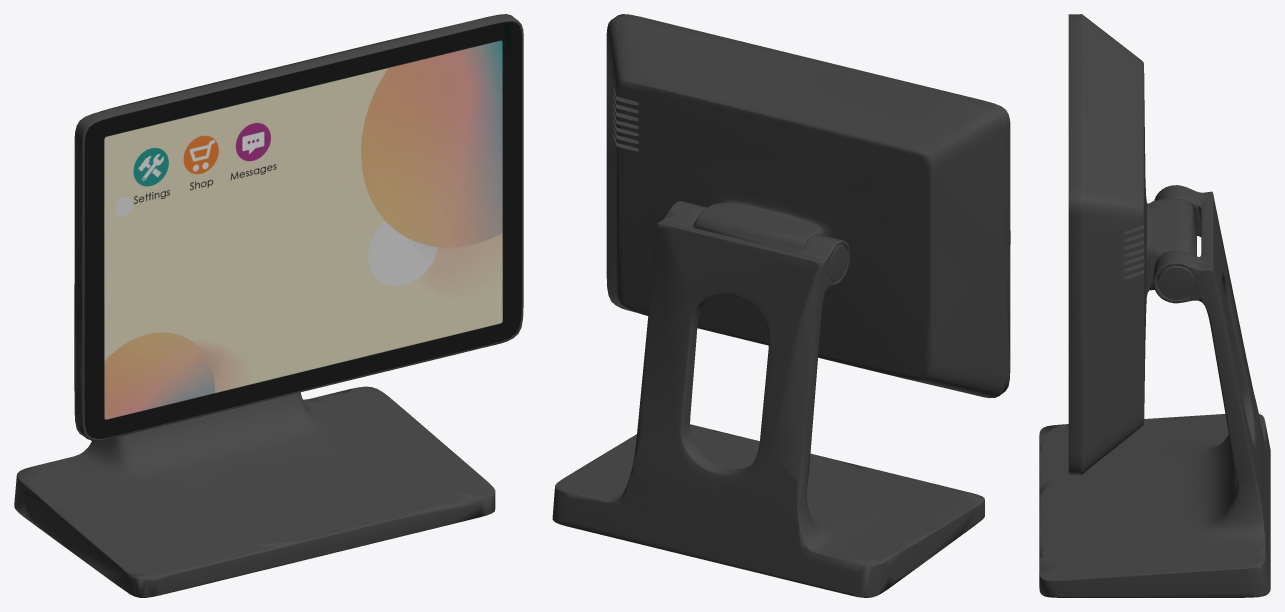
File: pos_register.glb
3 views of the same model, side by side, from view 1: azimuth 30°, elevation 25°; view 2: azimuth 150°, elevation 25°; view 3: azimuth 270°, elevation 25° (orthographic). The views are drawn at different scales.
Parts seen in each view (by area): view 1: Terminal_Android Panel_0, Terminal_Glass_0, Terminal_Black Pastics_0; view 2: Terminal_Black Pastics_0; view 3: Terminal_Black Pastics_0.
Boxes of the visible parts, x1,y1,x2,y2 form: Terminal_Android Panel_0: (84,21,521,438); Terminal_Glass_0: (84,22,521,438); Terminal_Black Pastics_0: (14,14,523,597); Terminal_Black Pastics_0: (552,14,1010,597); Terminal_Black Pastics_0: (1039,14,1270,597).
Size of the model in its own units: 0.3061 by 0.3145 by 0.1581.
6 materials, 2 textured.
